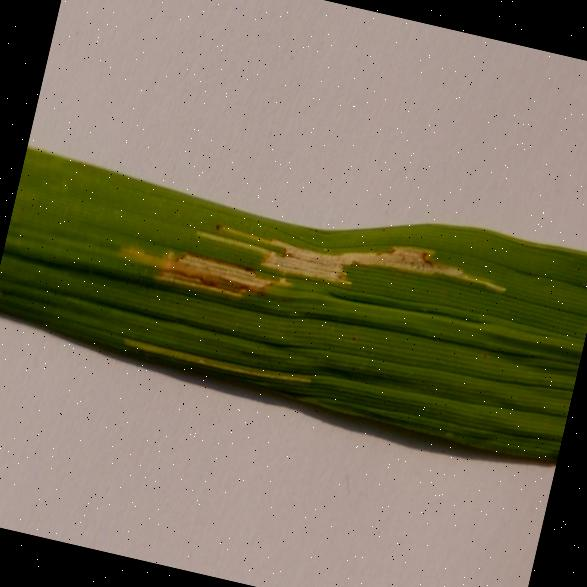Bacteria_Leaf_Blight: (105, 183, 524, 380)
